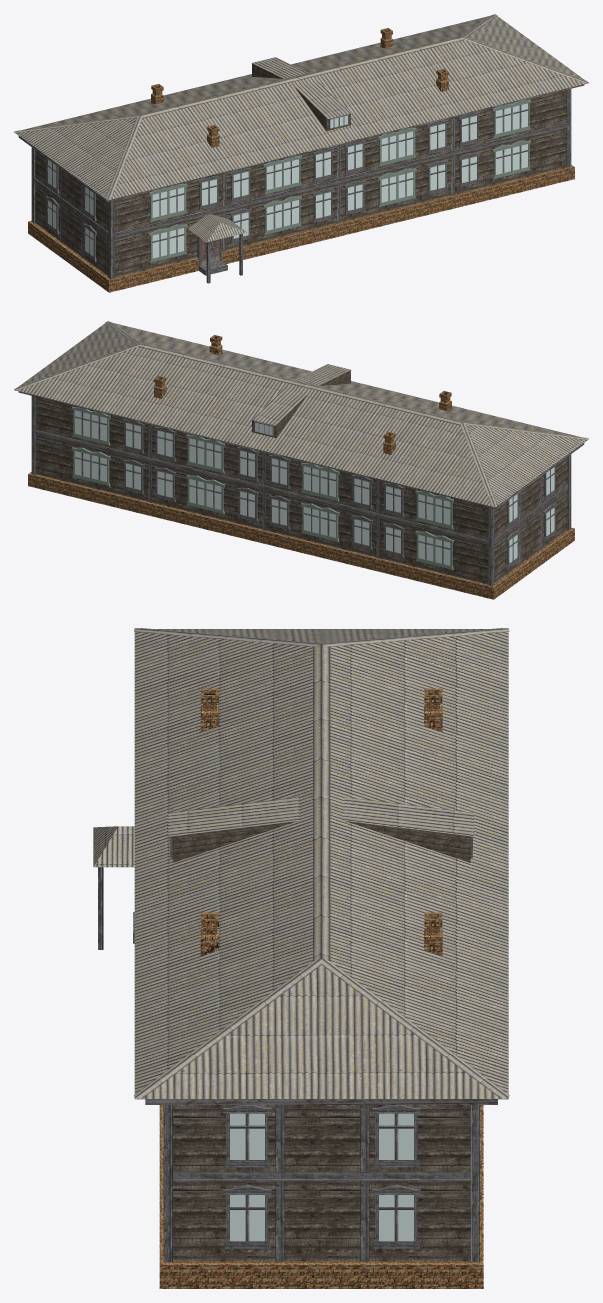
The picture shows the model from 3 angles, top to bottom: view 1: azimuth 30°, elevation 25°; view 2: azimuth 150°, elevation 25°; view 3: azimuth 270°, elevation 25°; orthographic projection. The views are drawn at different scales.
Visible parts, largest first — view 1: Тело дома; view 2: Тело дома; view 3: Тело дома.
Part boxes in pixels (x1,y1,x2,y2): Тело дома: [14, 14, 588, 292]; Тело дома: [14, 321, 588, 599]; Тело дома: [93, 628, 509, 1288].
Bounding box in the file's own units: 297 × 76.62 × 111.
